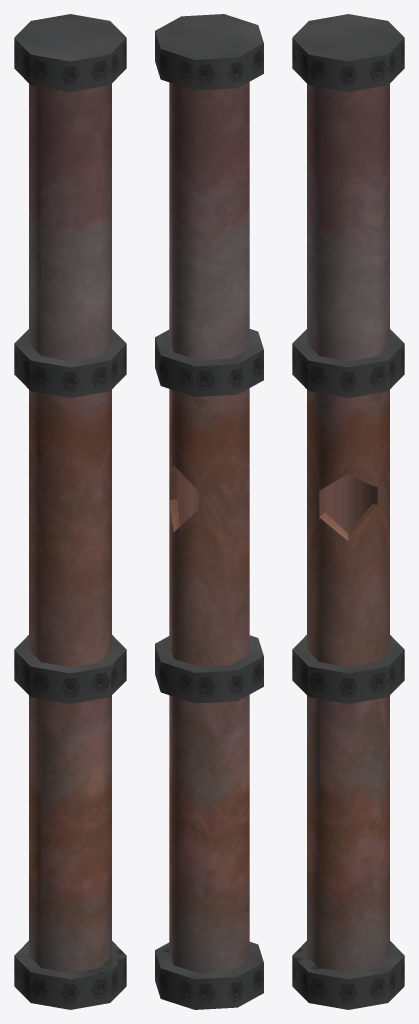
The model's file is Pipe_Broken.obj.
3 views of the same model, side by side, from view 1: azimuth 90°, elevation 25°; view 2: azimuth 210°, elevation 25°; view 3: azimuth 270°, elevation 25° (orthographic).
Visible parts, largest first — view 1: Circle.001; view 2: Circle.001; view 3: Circle.001.
Boxes of the visible parts, left/top/right/bottom form: Circle.001: left=14, top=14, right=126, bottom=1009; Circle.001: left=155, top=14, right=263, bottom=1009; Circle.001: left=292, top=14, right=404, bottom=1009.
Bounding box in the file's own units: 0.33 × 3.07 × 0.33.
2 materials, 2 textured.
